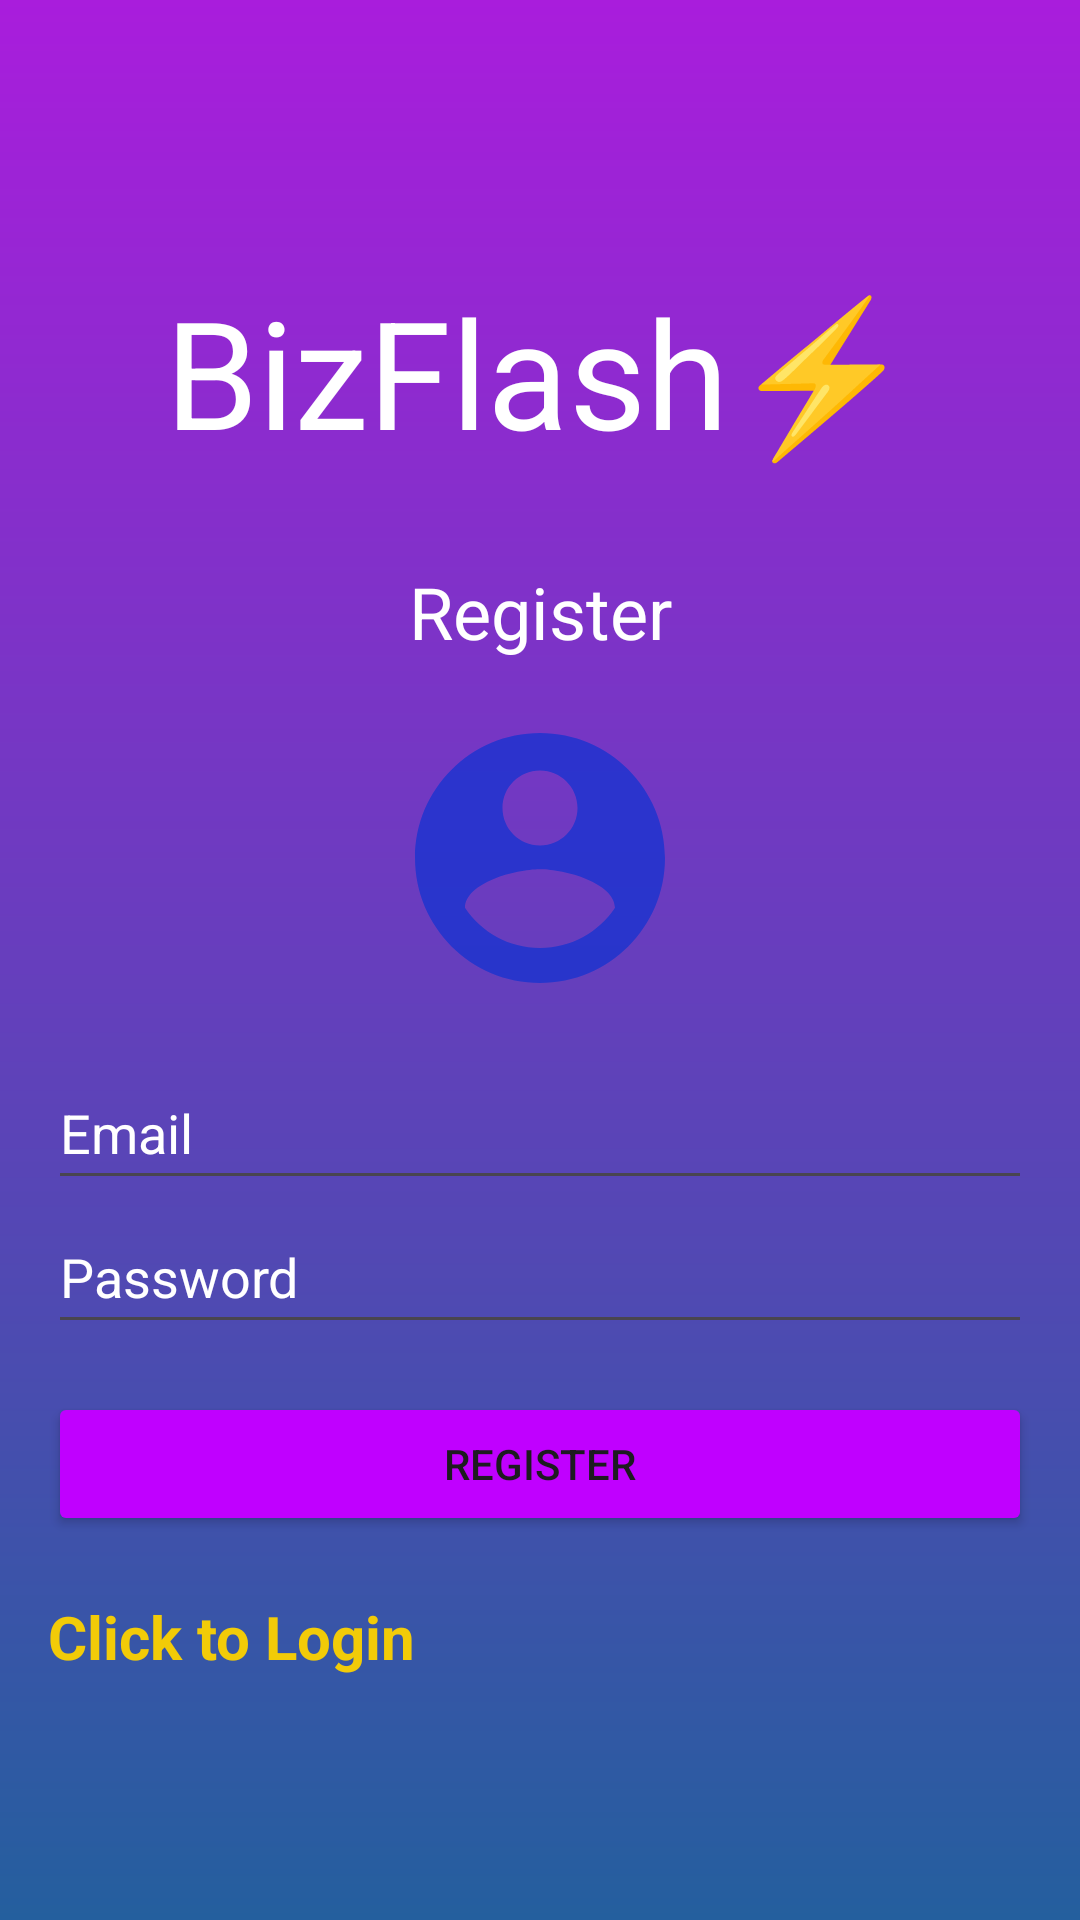

Where to tap for icons on this 1080 x 1920 app screen, as (x=x, y=y):
account circle: (x=540, y=858)
